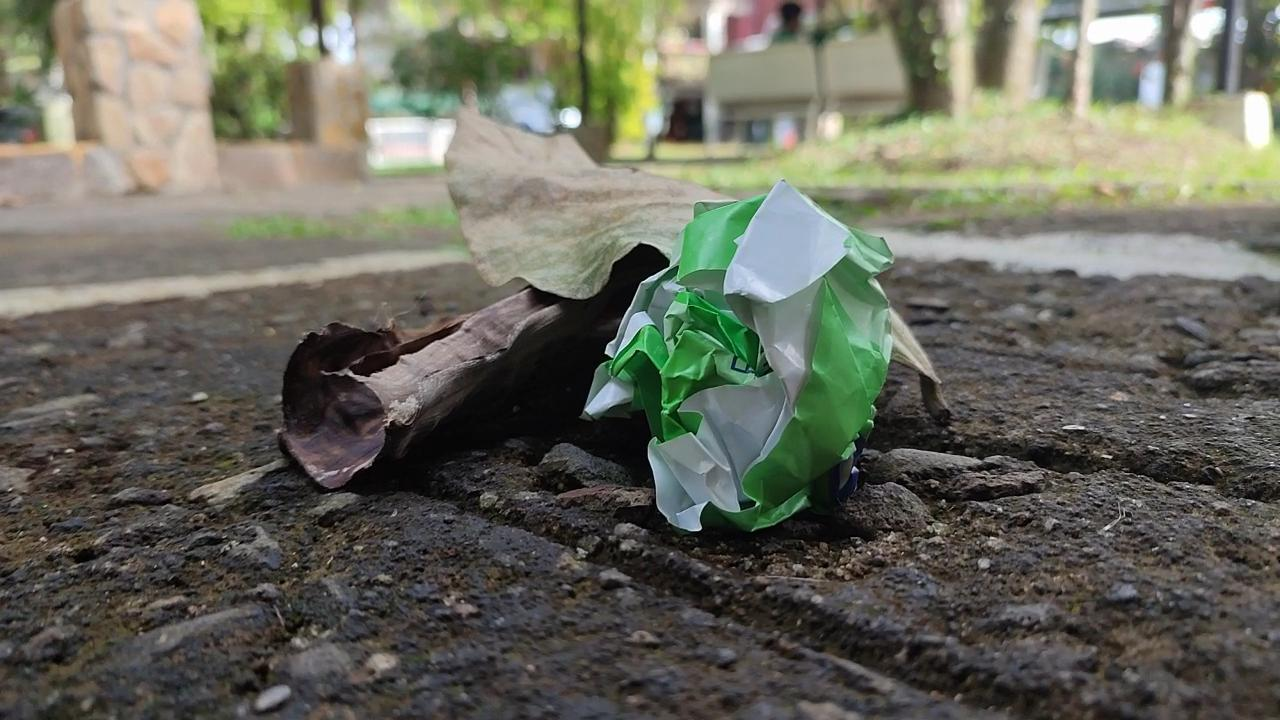Paper: (572, 163, 902, 549)
